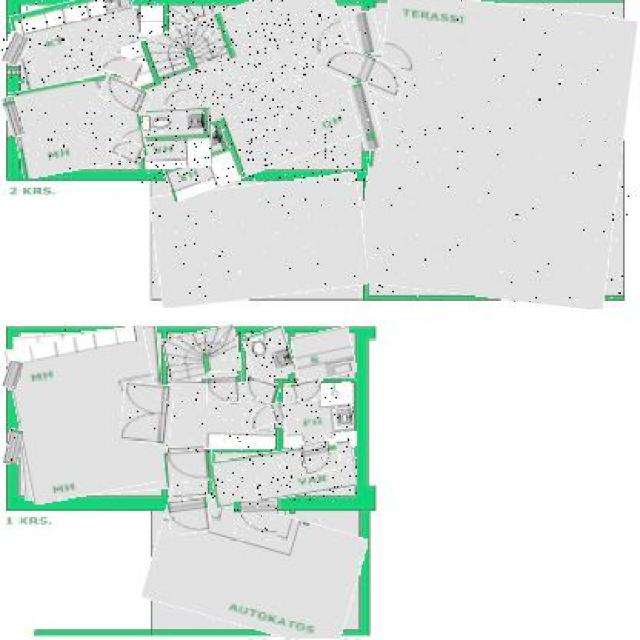door: (316, 46, 406, 92), (121, 383, 174, 445), (100, 78, 152, 111), (165, 449, 212, 483), (169, 498, 209, 536), (234, 500, 277, 535), (302, 440, 340, 474), (208, 372, 242, 403), (243, 405, 286, 429), (102, 54, 143, 78), (243, 378, 280, 402), (108, 139, 142, 163), (290, 378, 322, 402), (160, 89, 189, 105)
window: (354, 83, 378, 151), (355, 11, 380, 54), (0, 32, 26, 66), (5, 97, 23, 137), (5, 429, 22, 465), (5, 362, 22, 389)
zone: (363, 0, 629, 303), (129, 0, 369, 185), (148, 497, 362, 640), (152, 179, 366, 303), (12, 331, 165, 498), (15, 330, 166, 498), (10, 76, 144, 172), (12, 0, 142, 83), (211, 446, 357, 502), (171, 382, 275, 448), (286, 383, 357, 449), (138, 108, 212, 169), (165, 329, 240, 382), (294, 329, 355, 382), (245, 328, 292, 382), (172, 448, 206, 497)
